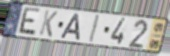2: (128, 18, 149, 51)
4: (109, 17, 127, 46)
A: (58, 12, 81, 41)
E: (16, 6, 42, 38)
I: (88, 14, 100, 44)
K: (38, 9, 59, 39)
